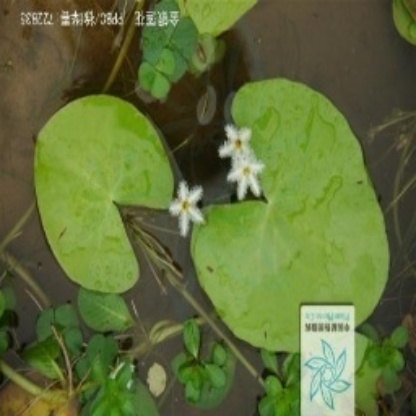leaf: (34, 94, 177, 294)
